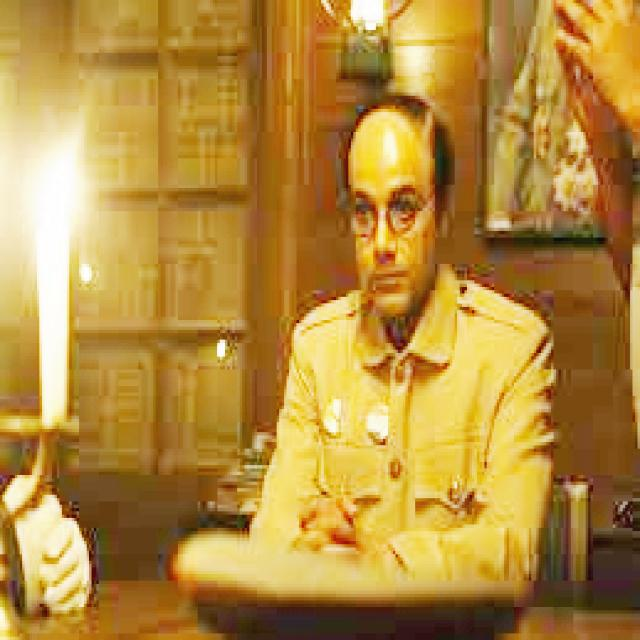api: (33, 156, 88, 239)
